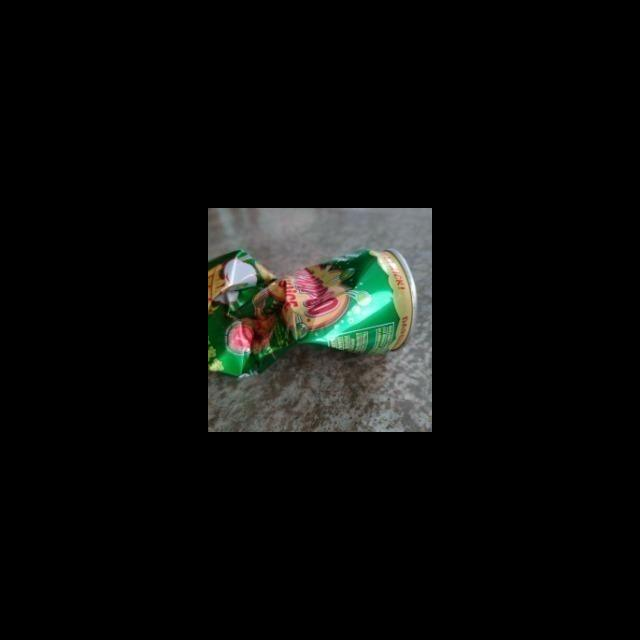metal: (208, 250, 418, 379)
